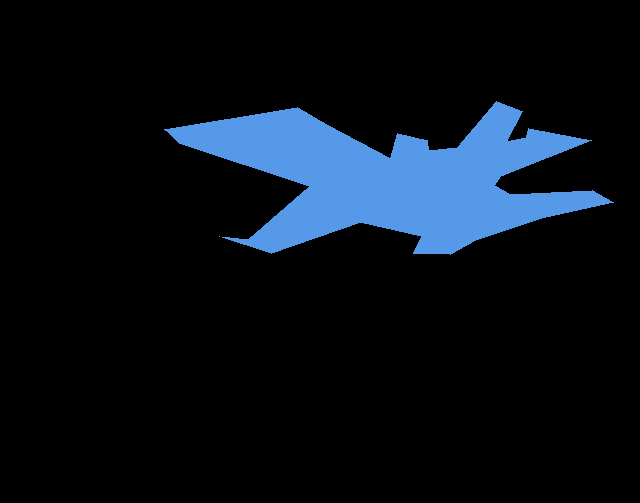Airplane: (164, 101, 613, 254)
